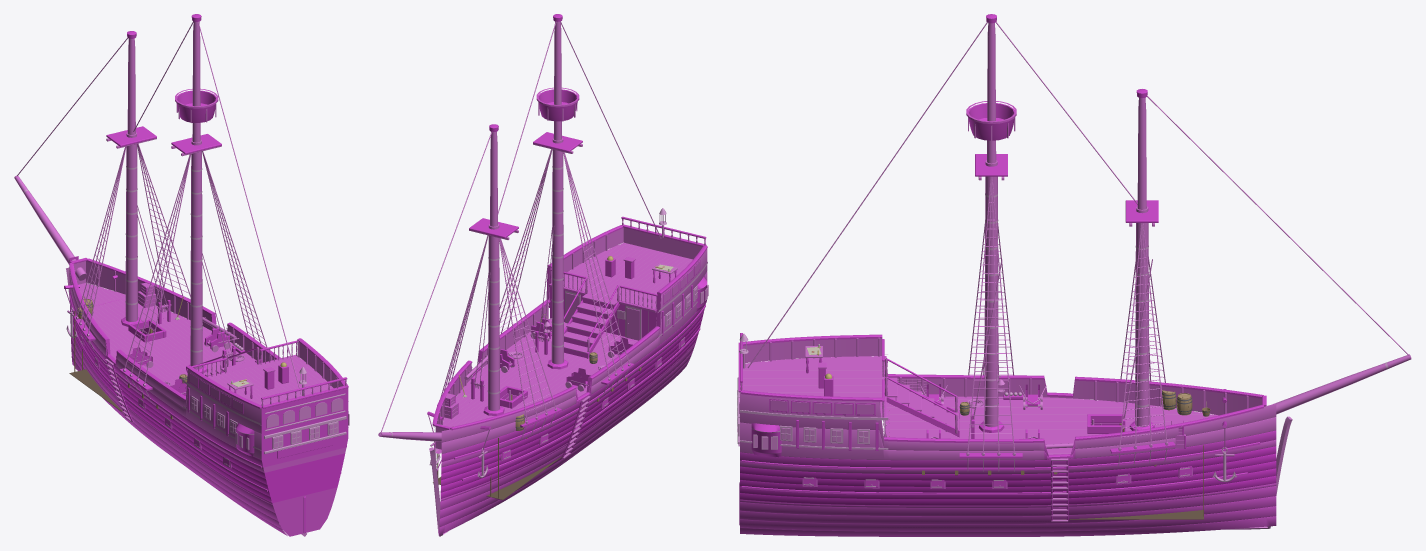
The model's file is ship_hull.glb.
3 views of the same model, side by side, from view 1: azimuth 30°, elevation 25°; view 2: azimuth 150°, elevation 25°; view 3: azimuth 270°, elevation 25° (orthographic). The views are drawn at different scales.
Visible parts, largest first — view 1: hull; view 2: hull; view 3: hull.
Boxes of the visible parts, bbox=[...] form: hull: bbox=[14, 14, 349, 536]; hull: bbox=[378, 14, 708, 536]; hull: bbox=[737, 14, 1411, 536].
Bounding box in the file's own units: 8.3 × 27.5 × 32.66.
